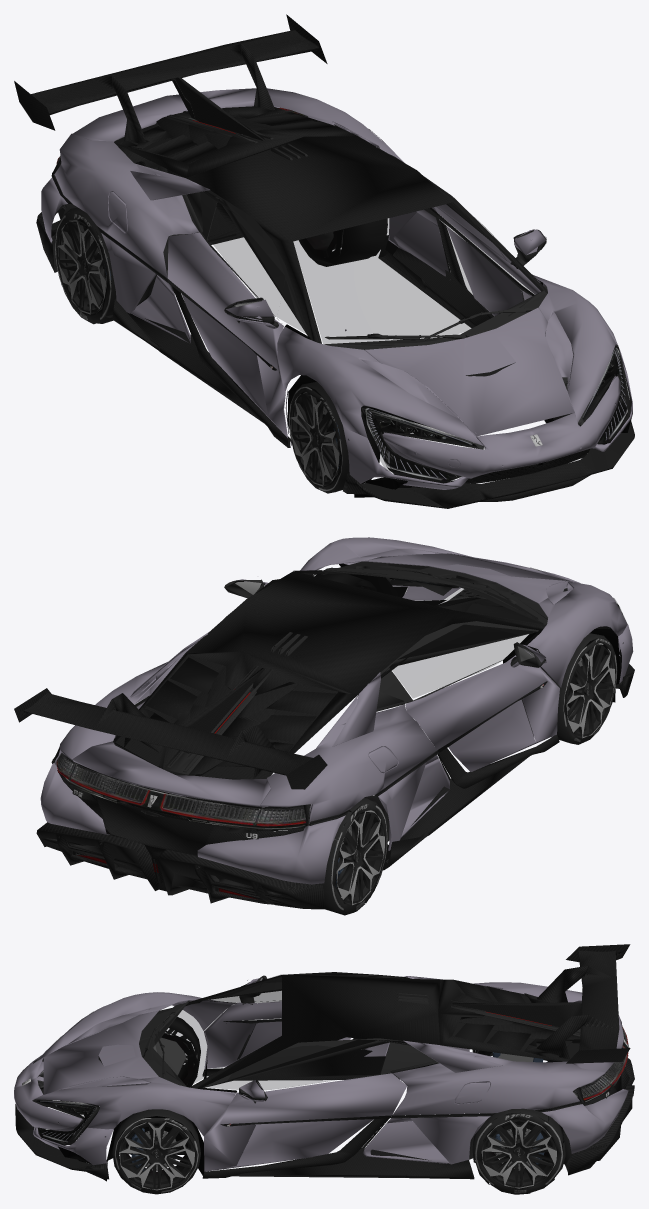
Rendered from yangwang-u9.glb.
3 renders of one model, top to bottom at view 1: azimuth 30°, elevation 25°; view 2: azimuth 150°, elevation 25°; view 3: azimuth 270°, elevation 25°, orthographic. The views are drawn at different scales.
Parts seen in each view (by area): view 1: SM_RearKit_0000.001, SM_FrontKit_0000.001, SM_Base_0000.001, SM_Hood_0000.001, SM_Hub_L_0000.004, SM_Hub_L_0000.003, polySurface2128_Lamborghini_HuracanPerformanteSpyder_2019_Wh, polySurface1806_Lamborghini_HuracanPerformanteSpyder_2019_Wh, polySurface1976_Lamborghini_HuracanPerformanteSpyder_2019_Wh; view 2: SM_RearKit_0000.001, SM_Base_0000.001, SM_FrontKit_0000.001, SM_Hub_L_0000.004, SM_Hub_L_0000.003, SM_Hood_0000.001, polySurface2128_Lamborghini_HuracanPerformanteSpyder_2019_Wh, polySurface1806_Lamborghini_HuracanPerformanteSpyder_2019_Wh; view 3: SM_RearKit_0000.001, SM_Base_0000.001, SM_FrontKit_0000.001, SM_Hood_0000.001, SM_Hub_L_0000.002, SM_Hub_L_0000.001, polySurface1968_Lamborghini_HuracanPerformanteSpyder_2019_Wh, polySurface1645_Lamborghini_HuracanPerformanteSpyder_2019_Wh, SM_Disk_R_0000_Morph000_BD_HR_F.001, SM_Hub_L_0000.003.
Part boxes in pixels (box(x1,y1,x2,y2)): SM_RearKit_0000.001: box(14, 14, 547, 441); SM_FrontKit_0000.001: box(277, 268, 634, 508); SM_Base_0000.001: box(167, 181, 546, 447); SM_Hood_0000.001: box(364, 308, 574, 436); SM_Hub_L_0000.004: box(57, 220, 107, 314); SM_Hub_L_0000.003: box(290, 392, 340, 486); polySurface2128_Lamborghini_HuracanPerformanteSpyder_2019_Wh: box(54, 211, 111, 322); polySurface1806_Lamborghini_HuracanPerformanteSpyder_2019_Wh: box(288, 386, 342, 491); polySurface1976_Lamborghini_HuracanPerformanteSpyder_2019_Wh: box(343, 218, 387, 243); SM_RearKit_0000.001: box(14, 561, 547, 909); SM_Base_0000.001: box(224, 579, 559, 788); SM_FrontKit_0000.001: box(300, 537, 634, 736); SM_Hub_L_0000.004: box(331, 810, 384, 905); SM_Hub_L_0000.003: box(565, 643, 615, 738); SM_Hood_0000.001: box(365, 553, 573, 603); polySurface2128_Lamborghini_HuracanPerformanteSpyder_2019_Wh: box(331, 802, 387, 913); polySurface1806_Lamborghini_HuracanPerformanteSpyder_2019_Wh: box(563, 637, 617, 742); SM_RearKit_0000.001: box(98, 944, 634, 1179); SM_Base_0000.001: box(202, 974, 406, 1178); SM_FrontKit_0000.001: box(14, 992, 236, 1181); SM_Hood_0000.001: box(43, 1010, 158, 1094); SM_Hub_L_0000.002: box(481, 1119, 556, 1188); SM_Hub_L_0000.001: box(119, 1121, 194, 1190); polySurface1968_Lamborghini_HuracanPerformanteSpyder_2019_Wh: box(474, 1112, 563, 1193); polySurface1645_Lamborghini_HuracanPerformanteSpyder_2019_Wh: box(114, 1118, 198, 1193); SM_Disk_R_0000_Morph000_BD_HR_F.001: box(153, 1033, 185, 1075); SM_Hub_L_0000.003: box(161, 1028, 193, 1084).
Size of the model in its own units: 0.0209 by 0.0122 by 0.0449.
14 materials, 11 textured.
